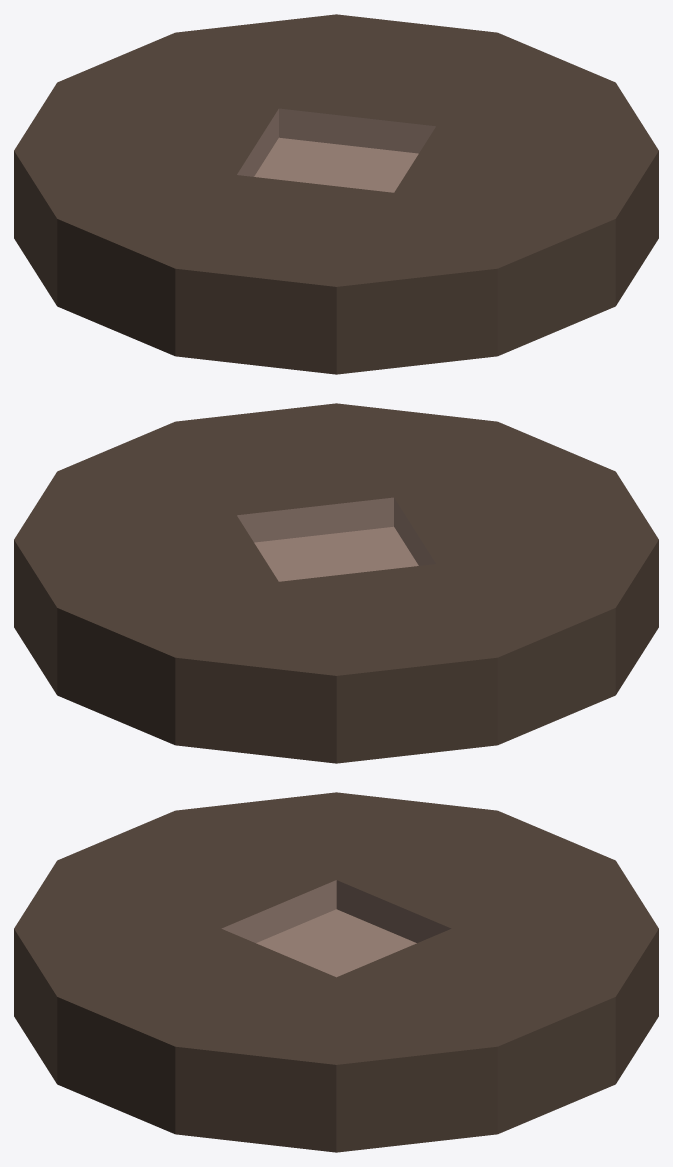
Rendered from Dragon Token Mesh.fbx.
3 renders of one model, top to bottom at view 1: azimuth 30°, elevation 25°; view 2: azimuth 150°, elevation 25°; view 3: azimuth 270°, elevation 25°, orthographic.
Visible parts, largest first — view 1: Dragon; view 2: Dragon; view 3: Dragon.
Boxes of the visible parts, left/top/right/bottom form: Dragon: left=14, top=14, right=658, bottom=374; Dragon: left=14, top=403, right=658, bottom=763; Dragon: left=14, top=792, right=658, bottom=1152.
Size of the model in its own units: 100 by 15 by 100.
